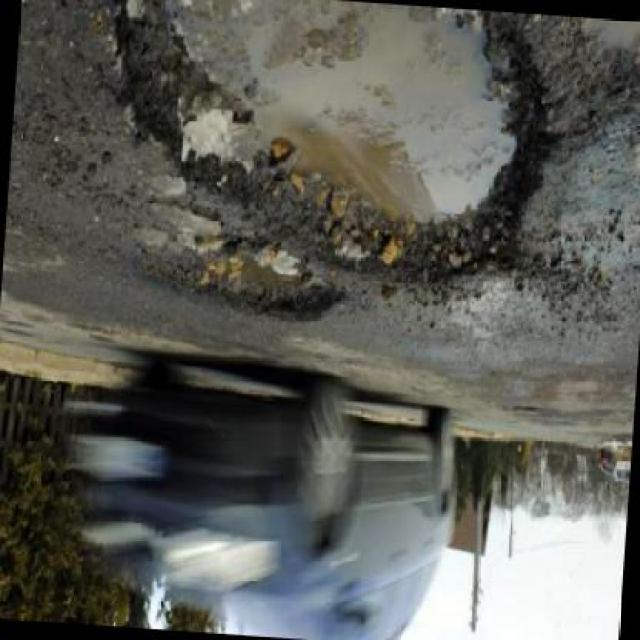pothole1: (86, 0, 566, 309), (134, 228, 349, 330)
